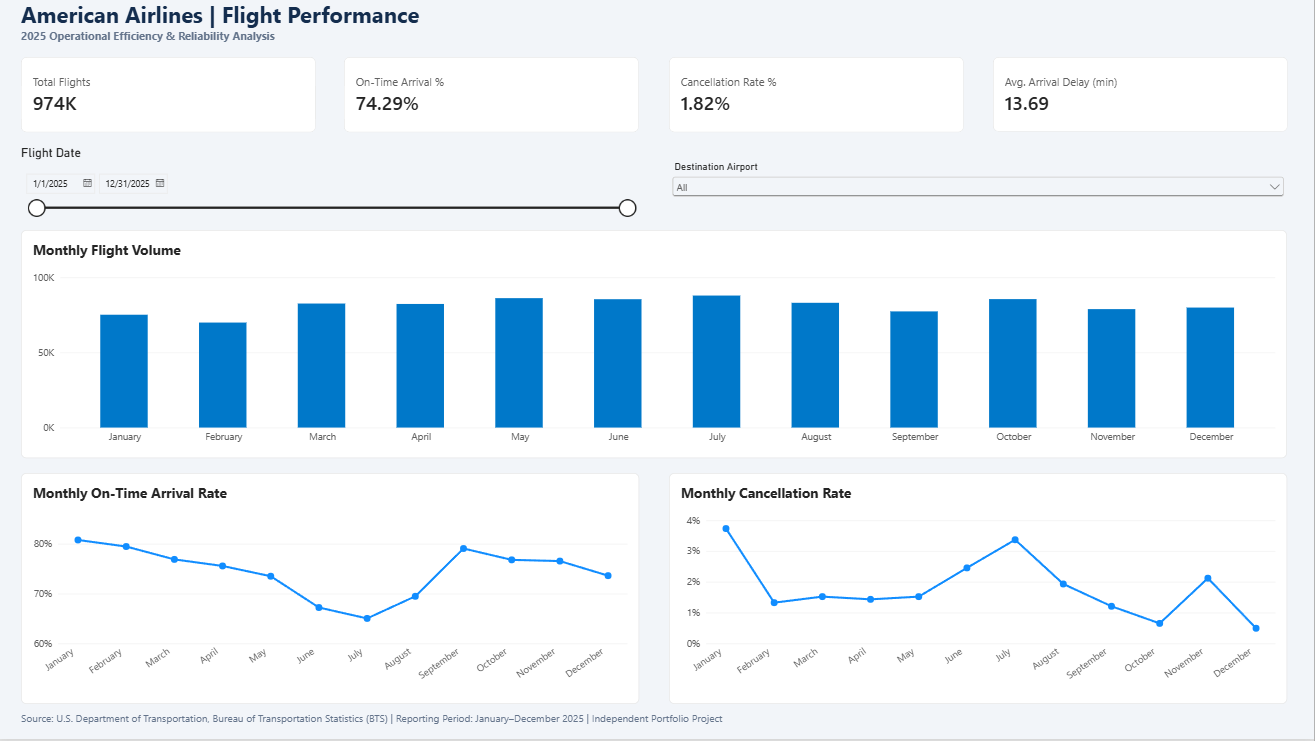

This screenshot's page, from the dashboard's own definition file:
{"tool":"powerbi","page":{"name":"Executive Overview","canvas":[1920,1080],"ordinal":0},"visuals":[{"type":"cardVisual","fields":{"Data":["AA_Flights.Total Flights"]},"box":[33.8,84.6,430,110],"z":0},{"type":"cardVisual","fields":{"Data":["AA_Flights.On-Time Arrival %"]},"box":[504.1,84.6,430,110],"z":1000},{"type":"cardVisual","fields":{"Data":["AA_Flights.Cancellation Rate %"]},"box":[979.5,84.6,430,110],"z":2000},{"type":"cardVisual","fields":{"Data":["AA_Flights.Average Arrival Delay"]},"box":[1451.4,84.6,430,110],"z":3000},{"type":"clusteredColumnChart","title":"Monthly Flight Volume","fields":{"Category":["AA_Flights.FL_DATE.Variation.Date Hierarchy.Year","AA_Flights.FL_DATE.Variation.Date Hierarchy.Quarter","AA_Flights.FL_DATE.Variation.Date Hierarchy.Month","AA_Flights.FL_DATE.Variation.Date Hierarchy.Day"],"Y":["AA_Flights.Total Flights"]},"box":[33.8,336.6,1847.3,333.3],"z":4000},{"type":"lineChart","title":"Monthly On-Time Arrival Rate","fields":{"Category":["AA_Flights.FL_DATE.Variation.Date Hierarchy.Year","AA_Flights.FL_DATE.Variation.Date Hierarchy.Quarter","AA_Flights.FL_DATE.Variation.Date Hierarchy.Month","AA_Flights.FL_DATE.Variation.Date Hierarchy.Day"],"Y":["AA_Flights.On-Time Arrival %"]},"box":[33.8,691.9,901.6,336.6],"z":5000},{"type":"lineChart","title":"Monthly Cancellation Rate","fields":{"Category":["AA_Flights.FL_DATE.Variation.Date Hierarchy.Year","AA_Flights.FL_DATE.Variation.Date Hierarchy.Quarter","AA_Flights.FL_DATE.Variation.Date Hierarchy.Month","AA_Flights.FL_DATE.Variation.Date Hierarchy.Day"],"Y":["AA_Flights.Cancellation Rate %"]},"box":[979.5,691.9,901.6,336.6],"z":6000},{"type":"slicer","title":"Flight Date","fields":{"Values":["AA_Flights.FL_DATE"]},"box":[33.6,213,901.6,108],"z":7000},{"type":"slicer","title":"Destination Airport","fields":{"Values":["AA_Flights.DEST"]},"box":[979.5,236.8,901.6,84.6],"z":8000},{"type":"textbox","box":[33.6,0,604,140.1],"z":9000},{"type":"textbox","box":[33.8,925.3,1322.9,153.9],"z":10000}]}

Visuals, with their boxes in screenshot pixels (x1, y1, x2, y2), scaled from the page's 1920x1080 canvas onto the 1315x741 screenshot:
cardVisual - AA_Flights.Total Flights: BBox(23, 58, 318, 134)
cardVisual - AA_Flights.On-Time Arrival %: BBox(345, 58, 640, 134)
cardVisual - AA_Flights.Cancellation Rate %: BBox(671, 58, 965, 134)
cardVisual - AA_Flights.Average Arrival Delay: BBox(994, 58, 1289, 134)
"Monthly Flight Volume" clusteredColumnChart: BBox(23, 231, 1288, 460)
"Monthly On-Time Arrival Rate" lineChart: BBox(23, 475, 641, 706)
"Monthly Cancellation Rate" lineChart: BBox(671, 475, 1288, 706)
"Flight Date" slicer: BBox(23, 146, 641, 220)
"Destination Airport" slicer: BBox(671, 162, 1288, 221)
textbox: BBox(23, 0, 437, 96)
textbox: BBox(23, 635, 929, 740)
